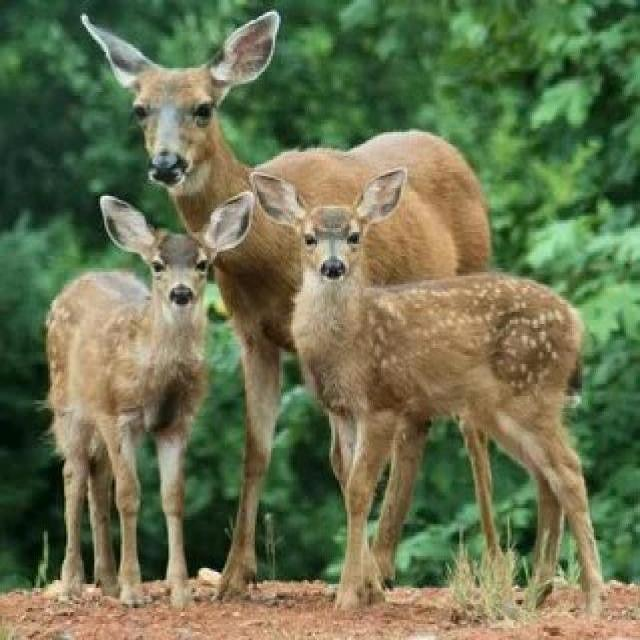deer: (100, 56, 500, 403), (14, 158, 288, 566), (220, 190, 523, 477)
